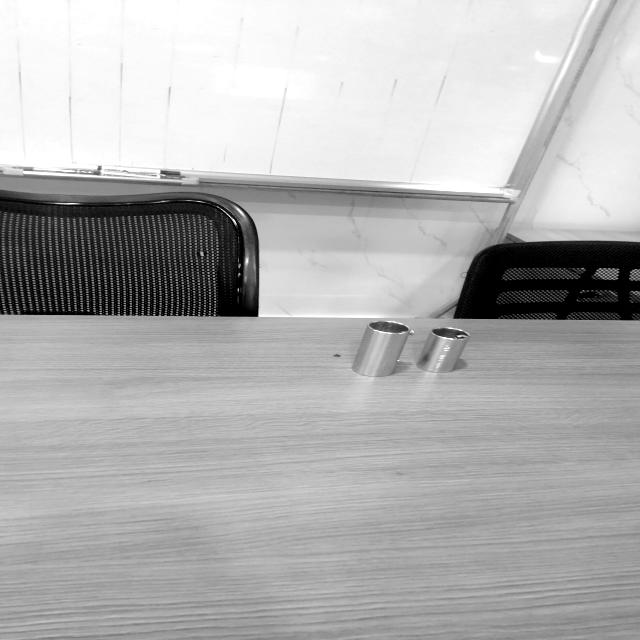Co_Lon: (346, 310, 414, 388)
Co_Nho: (414, 318, 471, 382)
